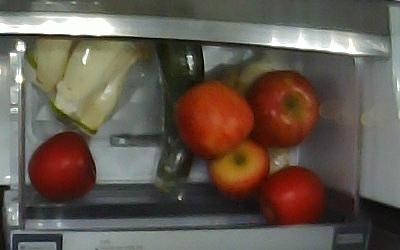apple: (170, 77, 255, 158), (242, 68, 320, 149), (27, 130, 96, 201), (256, 164, 328, 225), (206, 135, 270, 197)
